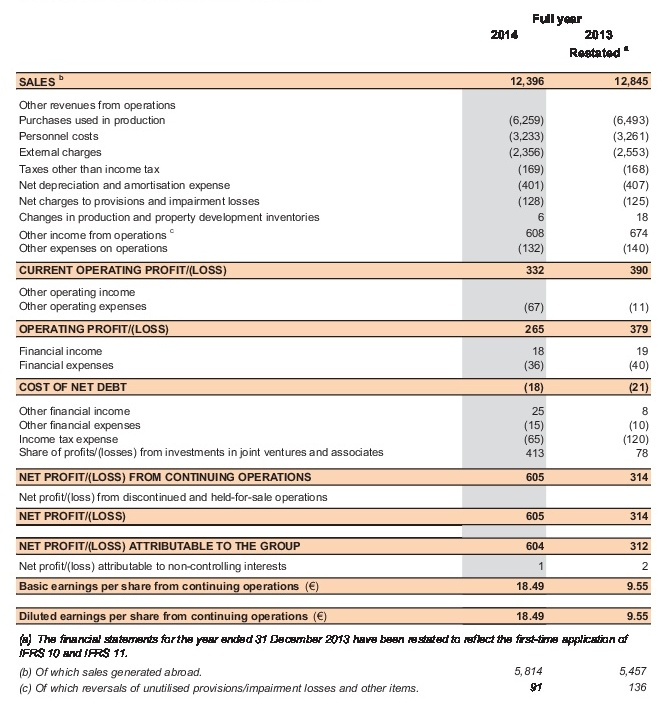table: (0, 0, 672, 707)
